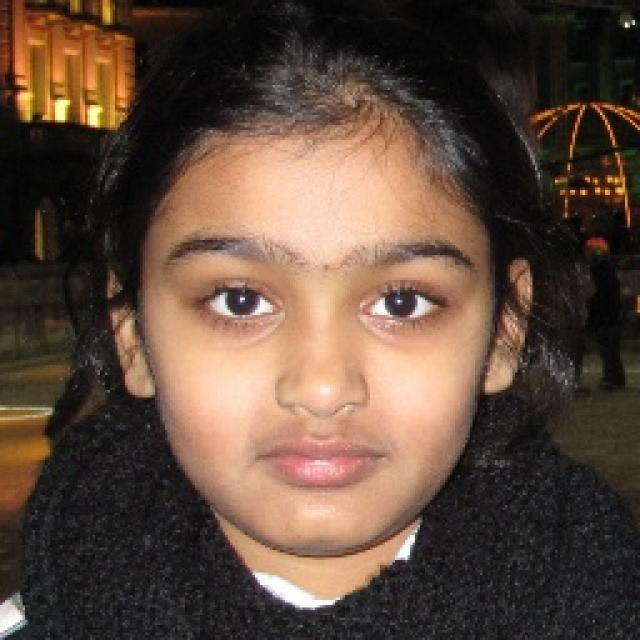earlobe: (482, 258, 532, 395), (104, 266, 154, 399)
